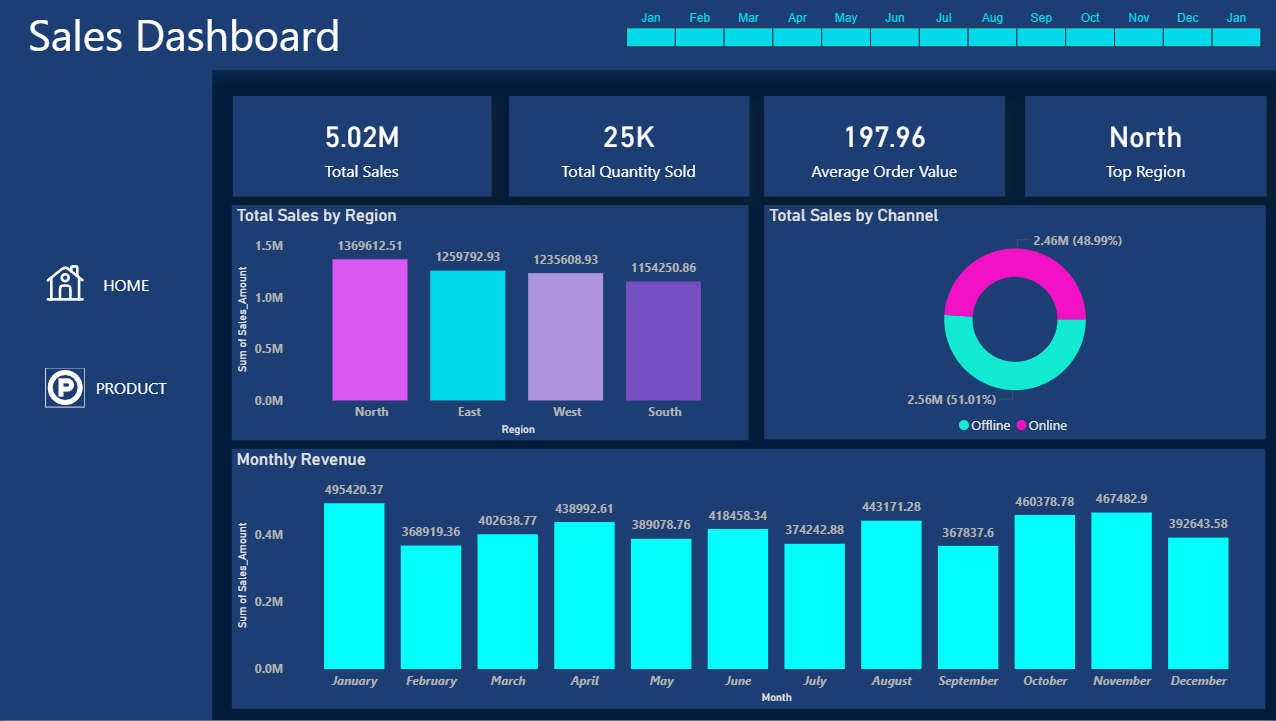

What the dashboard file says about the page in this screenshot:
{"tool":"powerbi","page":{"name":"Page 1","canvas":[1280,720],"ordinal":0},"visuals":[{"type":"shape","box":[0,0,214.3,720],"z":0,"group":"g1"},{"type":"textbox","box":[224.4,0,339.5,73.3],"z":0},{"type":"image","box":[20.8,17.2,170.8,139.1],"z":0,"group":"g2"},{"type":"group","id":"g1","title":"Group 1","box":[0,0,214.3,720],"z":1000,"group":"g2"},{"type":"clusteredColumnChart","title":"Total Sales by Region","fields":{"Category":["sales_data (2).Region"],"Y":["Sum(sales_data (2).Sales_Amount)"]},"box":[234.2,204.5,516.8,235.5],"z":1000},{"type":"image","box":[0,367.5,135,40],"z":1000,"group":"g1"},{"type":"image","box":[0.3,261.9,134.5,41.2],"z":2000,"group":"g1"},{"type":"columnChart","title":"Monthly Revenue","fields":{"Category":["sales_data (2).Sale_Date.Variation.Date Hierarchy.Month"],"Y":["Sum(sales_data (2).Sales_Amount)"]},"box":[234.2,448.6,1033.6,260.3],"z":2000},{"type":"donutChart","title":"Total Sales by Channel","fields":{"Category":["sales_data (2).Sales_Channel"],"Y":["Sum(sales_data (2).Sales_Amount)"]},"box":[765.9,204.5,501.9,234.2],"z":3000},{"type":"Timeline1447991079100","fields":{"Time":["sales_data (2).Sale_Date"]},"box":[614,0,666.3,59.3],"z":4000},{"type":"group","id":"g2","title":"Group 2","box":[0,0,214.3,720],"z":5000},{"type":"group","id":"g3","title":"Group 2","box":[20.6,17.2,169.4,139.1],"z":6000},{"type":"image","box":[20.6,17.2,169.4,139.1],"z":6000,"group":"g3"},{"type":"textbox","box":[78.8,371.3,108.8,37.5],"z":6000,"group":"g1"},{"type":"card","fields":{"Values":["sales_data (2).Total Sales"]},"box":[234.4,96.1,258.1,100.1],"z":7000},{"type":"card","fields":{"Values":["sales_data (2).Total Quantity"]},"box":[510.9,96.1,239.7,100.1],"z":8000},{"type":"textbox","box":[87.5,268.8,81.2,37.5],"z":8000,"group":"g1"},{"type":"card","fields":{"Values":["sales_data (2).Top Region"]},"box":[1027.2,96.1,241,100.1],"z":9000},{"type":"card","fields":{"Values":["sales_data (2).AOV"]},"box":[766.4,96.1,241,100.1],"z":9001}]}

Visuals, with their boxes in screenshot pixels (x1, y1, x2, y2), scaled from the page's 1280x720 canvas onto the 1276x721 screenshot:
shape: locate(0, 0, 214, 720)
textbox: locate(224, 0, 562, 73)
image: locate(21, 17, 191, 157)
"Group 1" group: locate(0, 0, 214, 720)
"Total Sales by Region" clusteredColumnChart: locate(233, 205, 749, 441)
image: locate(0, 368, 135, 408)
image: locate(0, 262, 134, 304)
"Monthly Revenue" columnChart: locate(233, 449, 1264, 710)
"Total Sales by Channel" donutChart: locate(764, 205, 1264, 439)
Timeline1447991079100 - sales_data (2).Sale_Date: locate(612, 0, 1275, 59)
"Group 2" group: locate(0, 0, 214, 720)
"Group 2" group: locate(21, 17, 189, 157)
image: locate(21, 17, 189, 157)
textbox: locate(79, 372, 187, 409)
card - sales_data (2).Total Sales: locate(234, 96, 491, 196)
card - sales_data (2).Total Quantity: locate(509, 96, 748, 196)
textbox: locate(87, 269, 168, 307)
card - sales_data (2).Top Region: locate(1024, 96, 1264, 196)
card - sales_data (2).AOV: locate(764, 96, 1004, 196)
